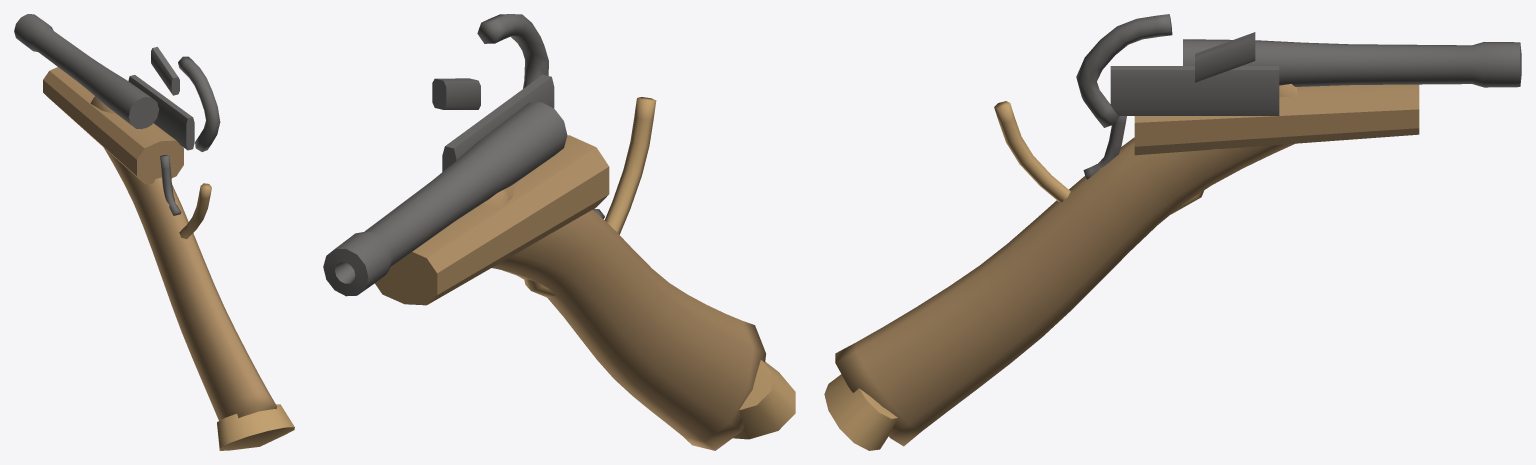
File: coat-pistol.glb
3 renders of one model, left to right at view 1: azimuth 30°, elevation 25°; view 2: azimuth 150°, elevation 25°; view 3: azimuth 270°, elevation 25°, orthographic. The views are drawn at different scales.
Visible parts, largest first — view 1: coat-pistol; view 2: coat-pistol; view 3: coat-pistol.
Boxes of the visible parts, left/top/right/bottom form: coat-pistol: left=14, top=14, right=294, bottom=450; coat-pistol: left=323, top=14, right=795, bottom=450; coat-pistol: left=824, top=14, right=1521, bottom=450.
Bounding box in the file's own units: 0.1111 × 0.4137 × 0.5786.
